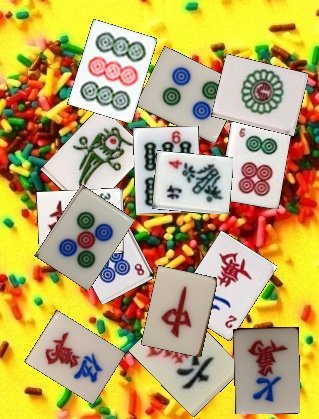bamboo-1: (40, 106, 148, 215)
bamboo-6: (133, 126, 200, 214)
bonus-bamboo: (152, 150, 233, 214)
characters-2: (173, 230, 277, 341)
characters-3: (36, 188, 124, 256)
characters-5: (24, 310, 125, 404)
characters-6: (128, 302, 242, 417)
characters-7: (233, 326, 300, 414)
dots-1: (211, 54, 308, 136)
dots-4: (136, 46, 244, 143)
dots-5: (34, 184, 134, 290)
dots-6: (218, 119, 291, 209)
dots-8: (64, 206, 154, 304)
dots-9: (67, 19, 157, 123)
honors-red: (141, 265, 217, 357)
